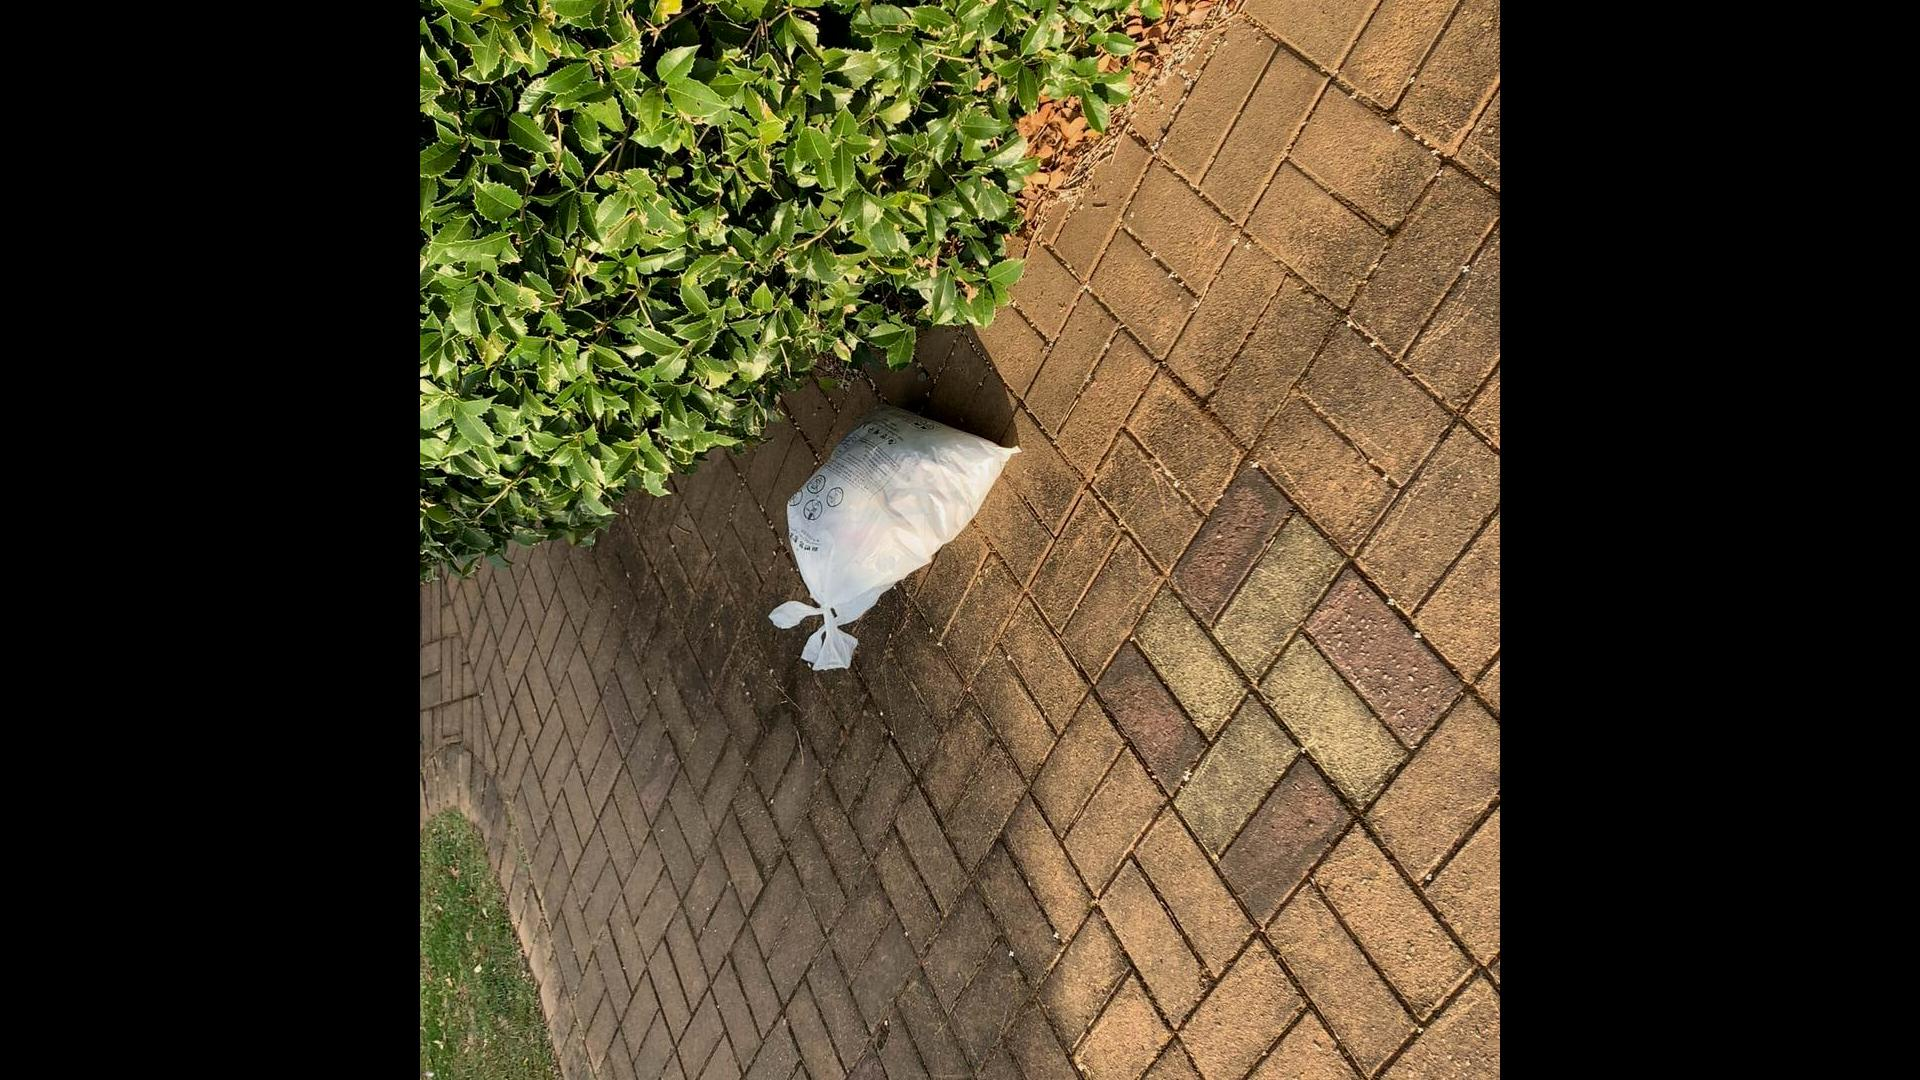white_bag: (762, 392, 1031, 688)
